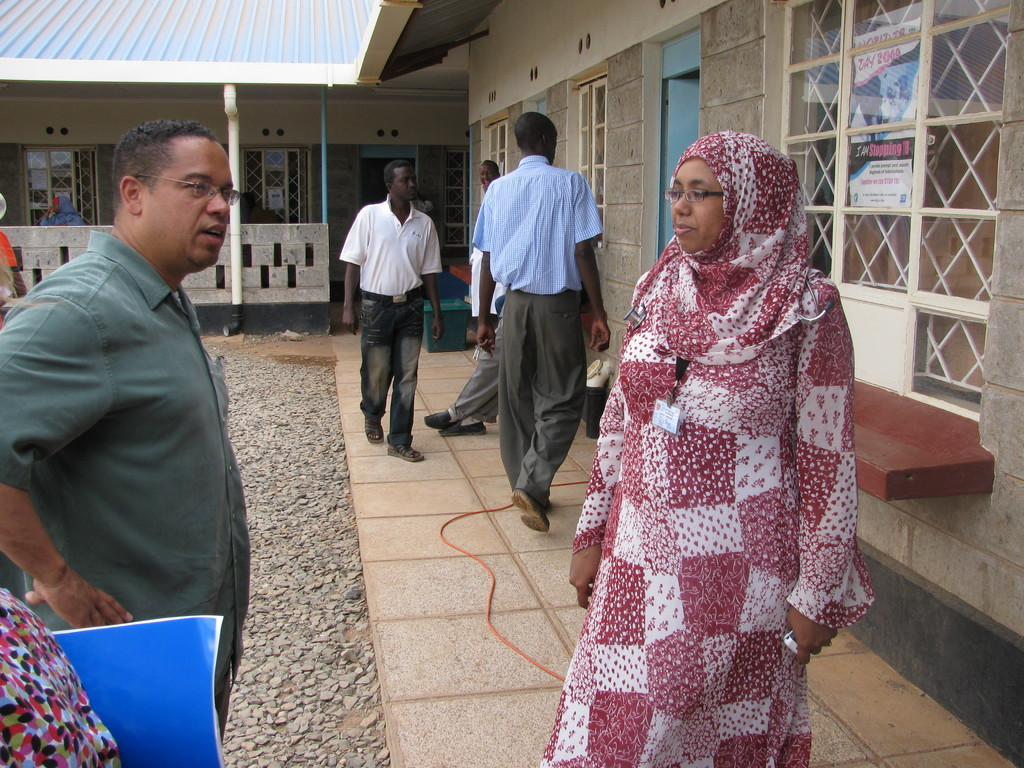Footwear: (511, 485, 557, 534), (440, 413, 485, 433), (387, 439, 424, 461), (362, 415, 388, 442), (424, 414, 447, 430)
